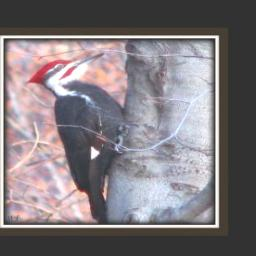Woodpecker: (25, 52, 139, 224)
